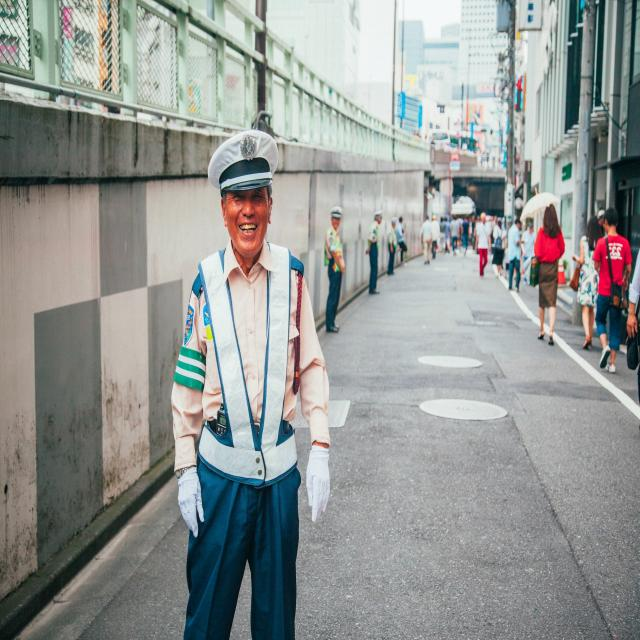adult: (172, 132, 331, 640), (594, 207, 630, 374), (534, 202, 565, 344), (324, 201, 346, 331)
